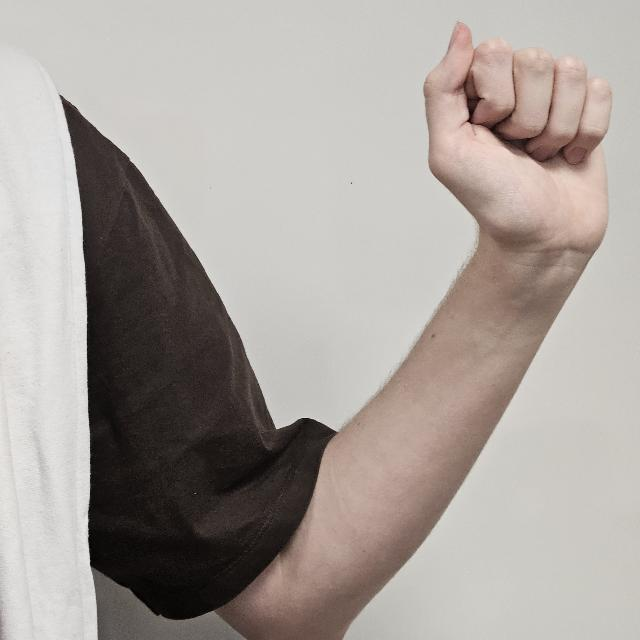Quadro: (422, 18, 612, 260)
